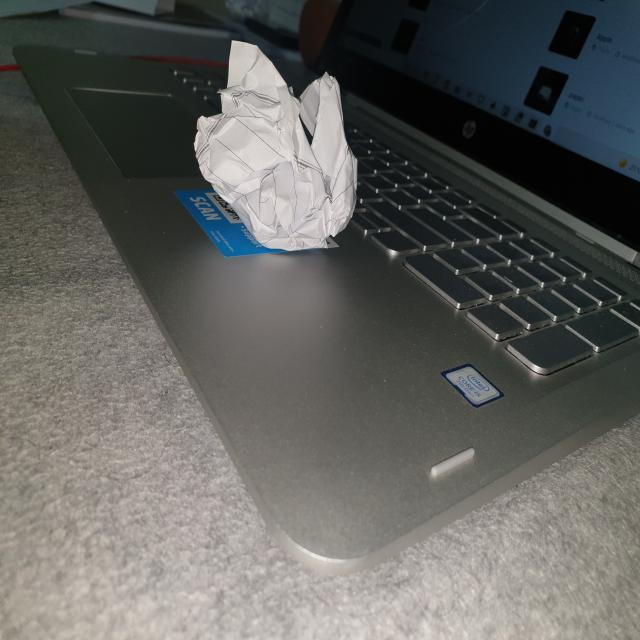Paper: (196, 37, 356, 248)
